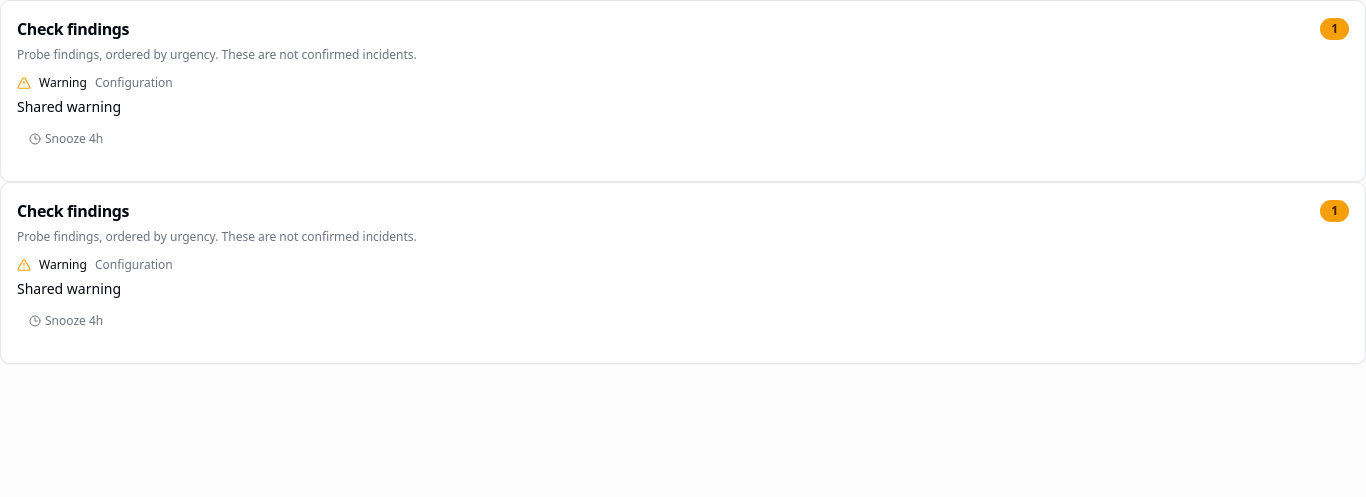
Test: snoozing in an inspector updates the mounted overview too
Click the button with aria-label "Snooze for 4 hours". click: click(66, 321)
box: [17,307,115,335]
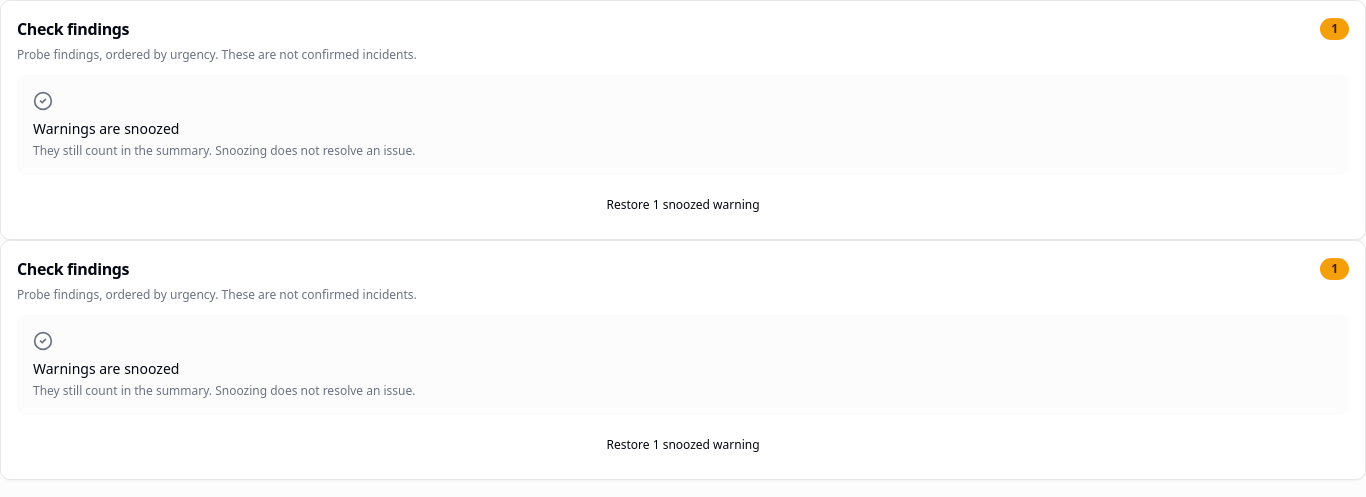
Expected: the number of buttons "Restore 1 snoozed warning" is 2, [17,187,1349,223]; [17,427,1349,463]
Expected: the text "Shared warning" is gone
